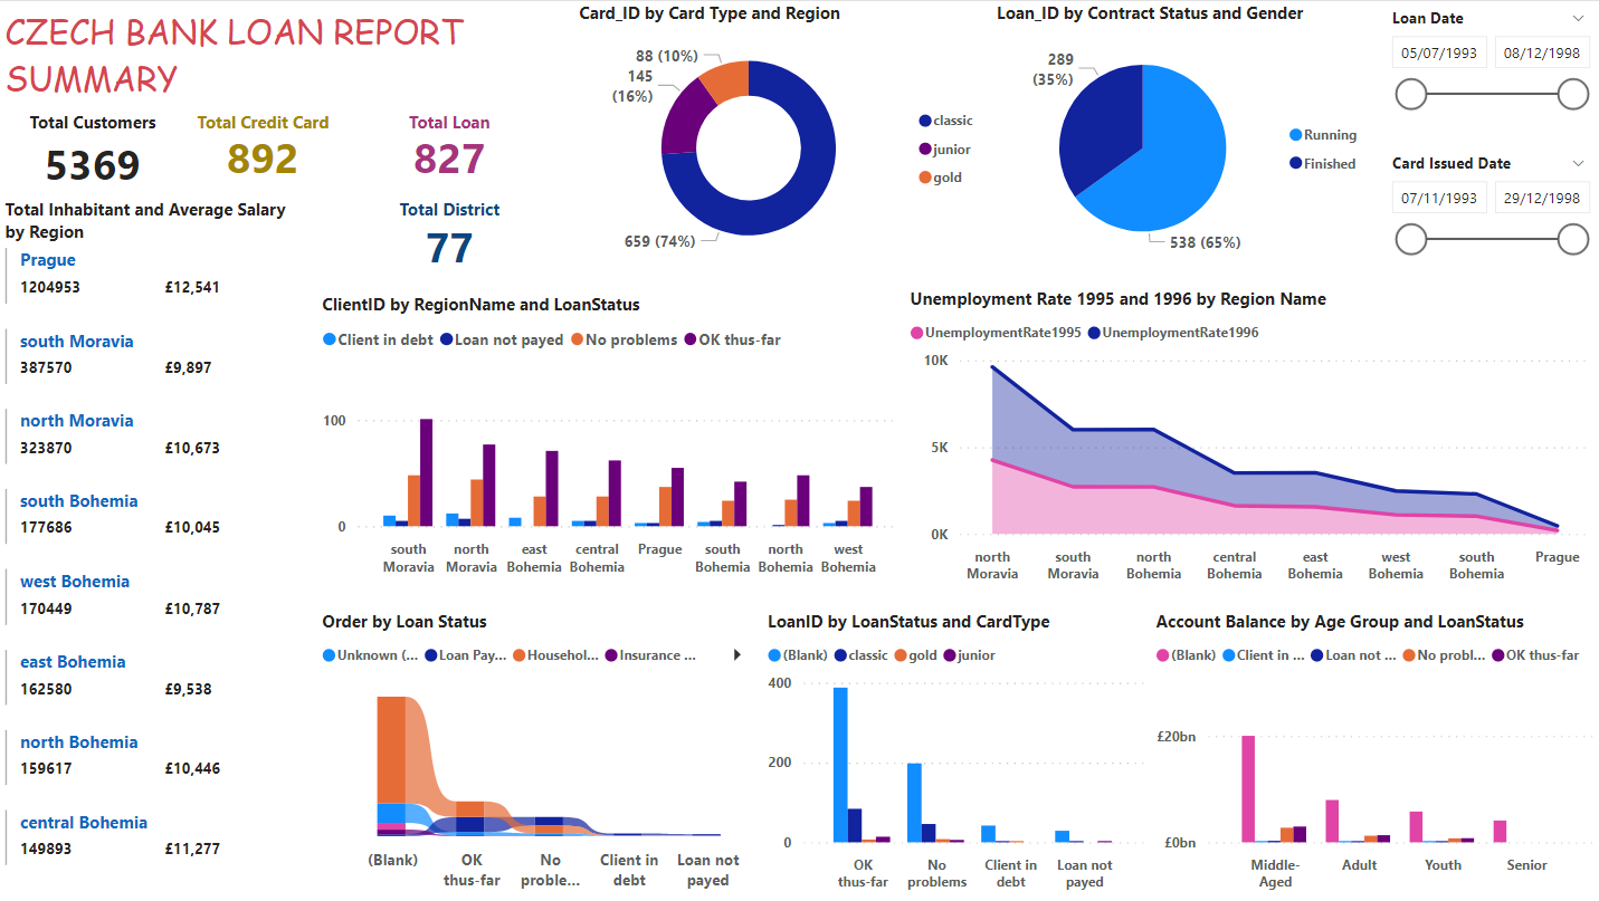

What the dashboard file says about the page in this screenshot:
{"tool":"powerbi","page":{"name":"DASHBOARD ","canvas":[1280,720],"ordinal":0},"visuals":[{"type":"clusteredColumnChart","title":"ClientID by RegionName and LoanStatus","fields":{"Category":["District_data.RegionName"],"Series":["Loan_data.LoanStatus"],"Y":["CountNonNull(Loan_data.ClientID)"]},"box":[252.9,233.5,470.7,233.5],"z":0},{"type":"card","title":"Total Loan","fields":{"Values":["CountNonNull(Loan_data.LoanID)"]},"box":[286.8,87.1,146.4,58.1],"z":1000},{"type":"card","title":"Total Credit Card","fields":{"Values":["CountNonNull(Card_data.CardID)"]},"box":[136.7,87.1,150.1,58.1],"z":2000},{"type":"donutChart","title":"Card_ID by Card Type and Region","fields":{"Category":["District_data.RegionName","Card_data.Card_Type"],"Y":["CountNonNull(Card_data.CardID)"]},"box":[458.6,0,334,217.8],"z":3000},{"type":"card","title":"Total Customers","fields":{"Values":["CountNonNull(Client_data.ClientID)"]},"box":[0,87.1,150.1,70.2],"z":4000},{"type":"clusteredColumnChart","title":"LoanID by LoanStatus and CardType","fields":{"Category":["Loan_data.LoanStatus","Client_data.Age Group"],"Y":["CountNonNull(Loan_data.LoanID)"],"Series":["Card_data.Card_Type"]},"box":[609.5,486.7,310.3,233.3],"z":5000},{"type":"pieChart","title":"Loan_ID by Contract Status and Gender","fields":{"Category":["Loan_data.ContractStatus","Client_data.Gender"],"Y":["CountNonNull(Loan_data.LoanID)"]},"box":[792.6,0,307.4,217.8],"z":6000},{"type":"clusteredColumnChart","title":"Account Balance by Age Group and LoanStatus","fields":{"Category":["Client_data.Age Group"],"Series":["Loan_data.LoanStatus"],"Y":["Sum(Transaction_data.Acc_Balance)"]},"box":[919.8,486.7,360.6,233.3],"z":7000},{"type":"multiRowCard","title":"Total Inhabitant and Average Salary by Region","fields":{"Values":["Max(District_data.N0ofInhabitants)","Max(District_data.AverageSalary)","District_data.RegionName"]},"box":[0,157.3,252.9,562.7],"z":8000},{"type":"stackedAreaChart","title":"Unemployment Rate 1995 and 1996 by Region Name","fields":{"Category":["District_data.RegionName"],"Y":["Sum(District_data.UnemploymentRate1995)","Sum(District_data.UnemploymentRate1996)"]},"box":[723.6,228.7,556.6,244.4],"z":9000},{"type":"ribbonChart","title":"Order by Loan Status","fields":{"Category":["Loan_data.LoanStatus"],"Y":["Sum(Order_data.Unknown (UN))","Sum(Order_data.Loan Payment (LP))","Sum(Order_data.Household (H))","Sum(Order_data.Insurance Payment (IP))","Sum(Order_data.Leasing (L))"]},"box":[253.4,486.7,356.1,233.3],"z":10000},{"type":"slicer","fields":{"Values":["Loan_data.Loan_Date"]},"box":[1101.2,0,179.1,116.2],"z":11000},{"type":"slicer","fields":{"Values":["Card_data.Date_Issued"]},"box":[1101.2,116.2,179.1,117.4],"z":12000},{"type":"textbox","box":[0,0,382.4,87.1],"z":13000},{"type":"card","title":"Total District","fields":{"Values":["Count(District_data.DistrictName)"]},"box":[286.8,157.3,146.4,60.5],"z":14000}]}

Visuals, with their boxes in screenshot pixels (x1, y1, x2, y2), scaled from the page's 1280x720 canvas onto the 1599x901 screenshot:
"ClientID by RegionName and LoanStatus" clusteredColumnChart: <bbox>316, 292, 904, 584</bbox>
"Total Loan" card: <bbox>358, 109, 541, 182</bbox>
"Total Credit Card" card: <bbox>171, 109, 358, 182</bbox>
"Card_ID by Card Type and Region" donutChart: <bbox>573, 0, 990, 273</bbox>
"Total Customers" card: <bbox>0, 109, 188, 197</bbox>
"LoanID by LoanStatus and CardType" clusteredColumnChart: <bbox>761, 609, 1149, 900</bbox>
"Loan_ID by Contract Status and Gender" pieChart: <bbox>990, 0, 1374, 273</bbox>
"Account Balance by Age Group and LoanStatus" clusteredColumnChart: <bbox>1149, 609, 1598, 900</bbox>
"Total Inhabitant and Average Salary by Region" multiRowCard: <bbox>0, 197, 316, 900</bbox>
"Unemployment Rate 1995 and 1996 by Region Name" stackedAreaChart: <bbox>904, 286, 1598, 592</bbox>
"Order by Loan Status" ribbonChart: <bbox>317, 609, 761, 900</bbox>
slicer - Loan_data.Loan_Date: <bbox>1376, 0, 1598, 145</bbox>
slicer - Card_data.Date_Issued: <bbox>1376, 145, 1598, 292</bbox>
textbox: <bbox>0, 0, 478, 109</bbox>
"Total District" card: <bbox>358, 197, 541, 273</bbox>
